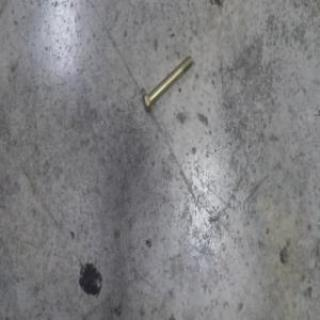Bolttrack_idkeyframe: (139, 54, 193, 114)
